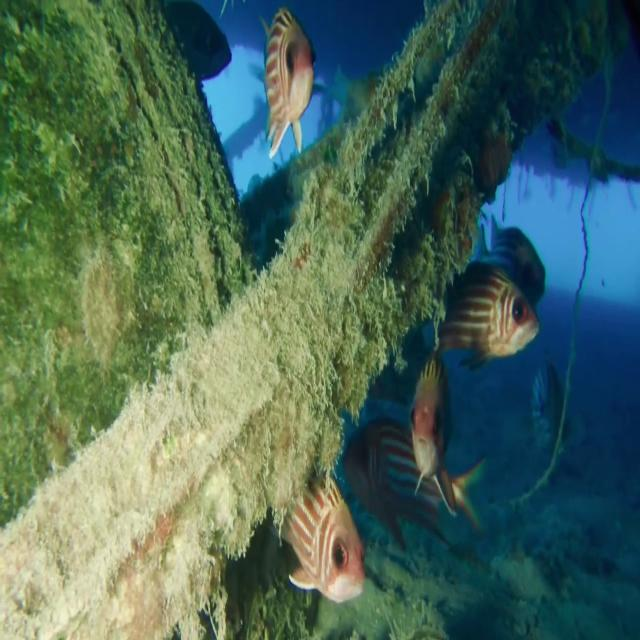Asker Baligi: (277, 468, 367, 604), (259, 5, 317, 160)
